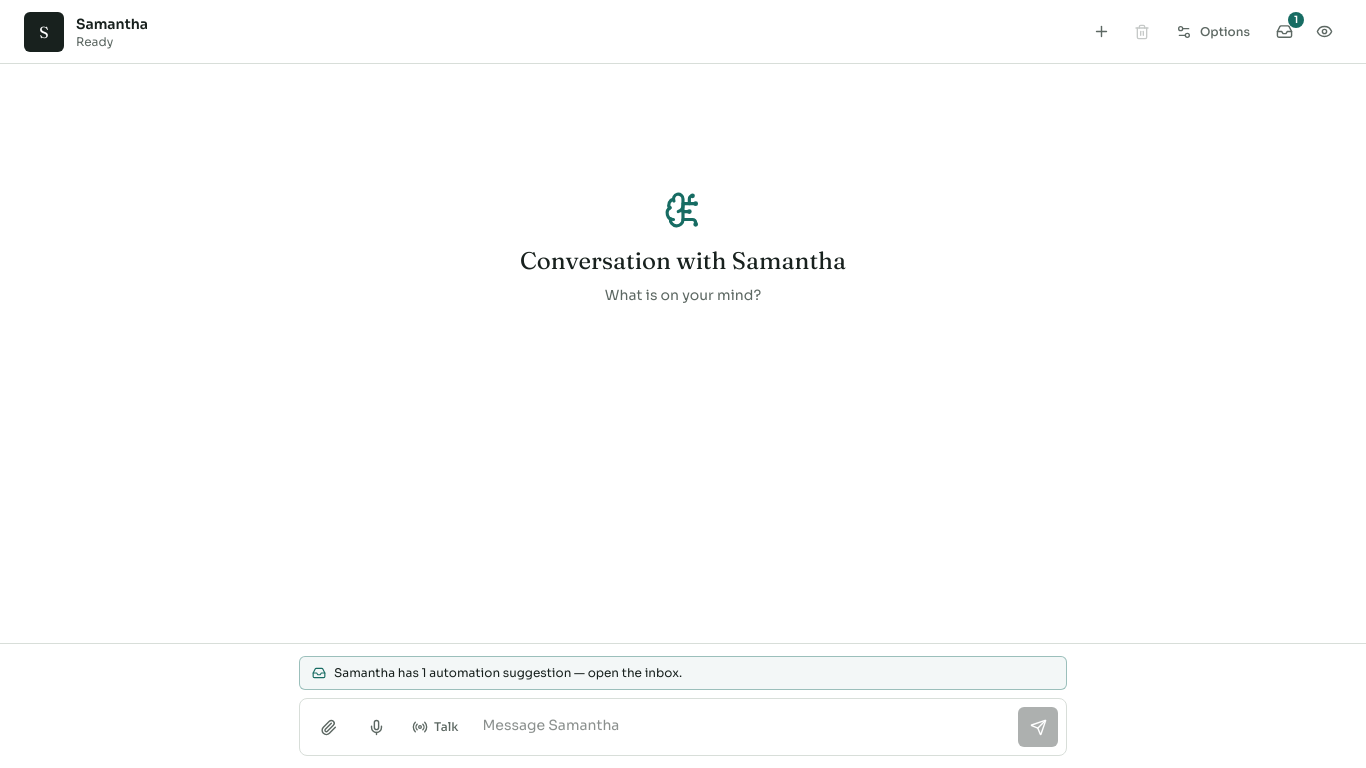
Test case: ChatPage outbox replies › shows an inert automation suggestion and activates it only after Accept
Expected: the text box labelled "Message Samantha" is shown, [474,707,1010,747]
Click the button named "Show inbox" at (1284, 32), box [1266,14,1302,50]
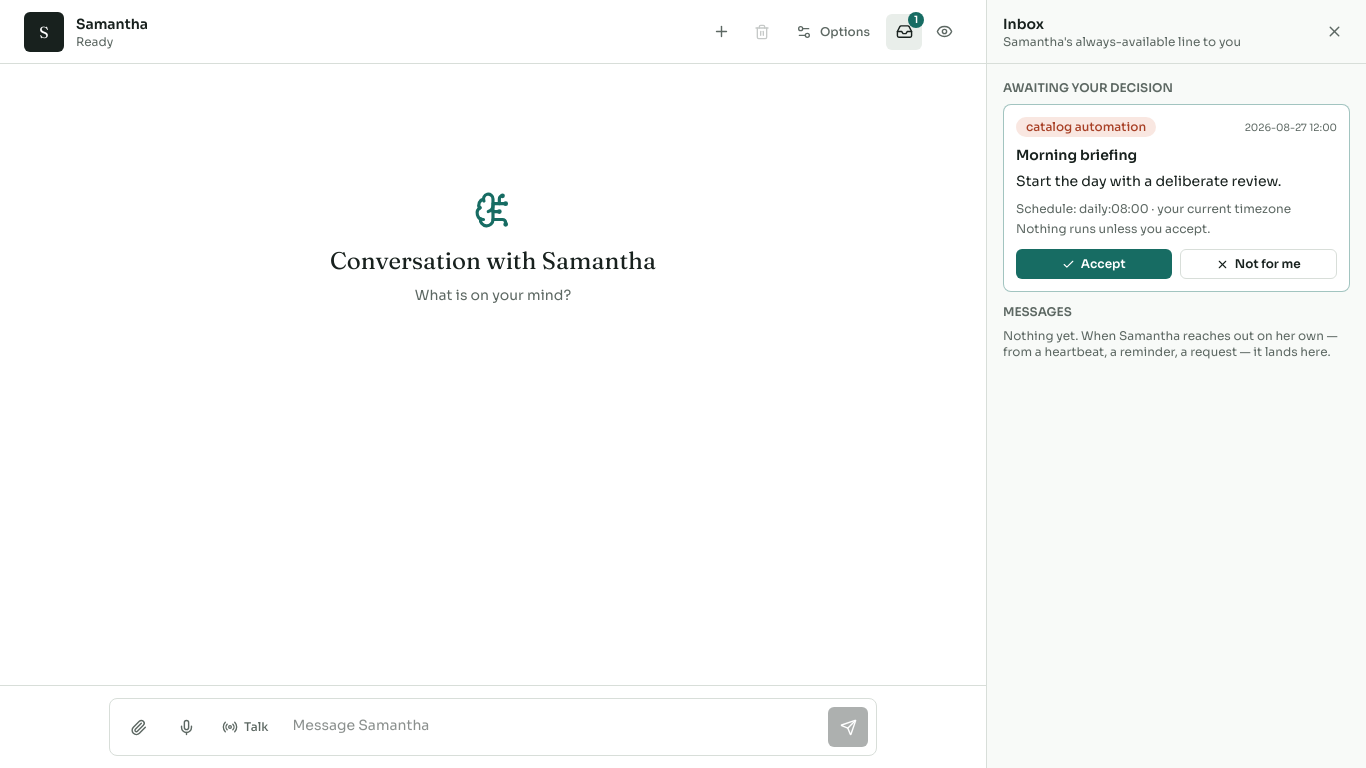
Expected: the text "Morning briefing" is shown, [1016,146,1137,164]
Expected: the text "Nothing runs unless you accept." is shown, [1016,221,1210,236]
Click the button "Accept" at (1094, 264), box [1016,249,1172,279]
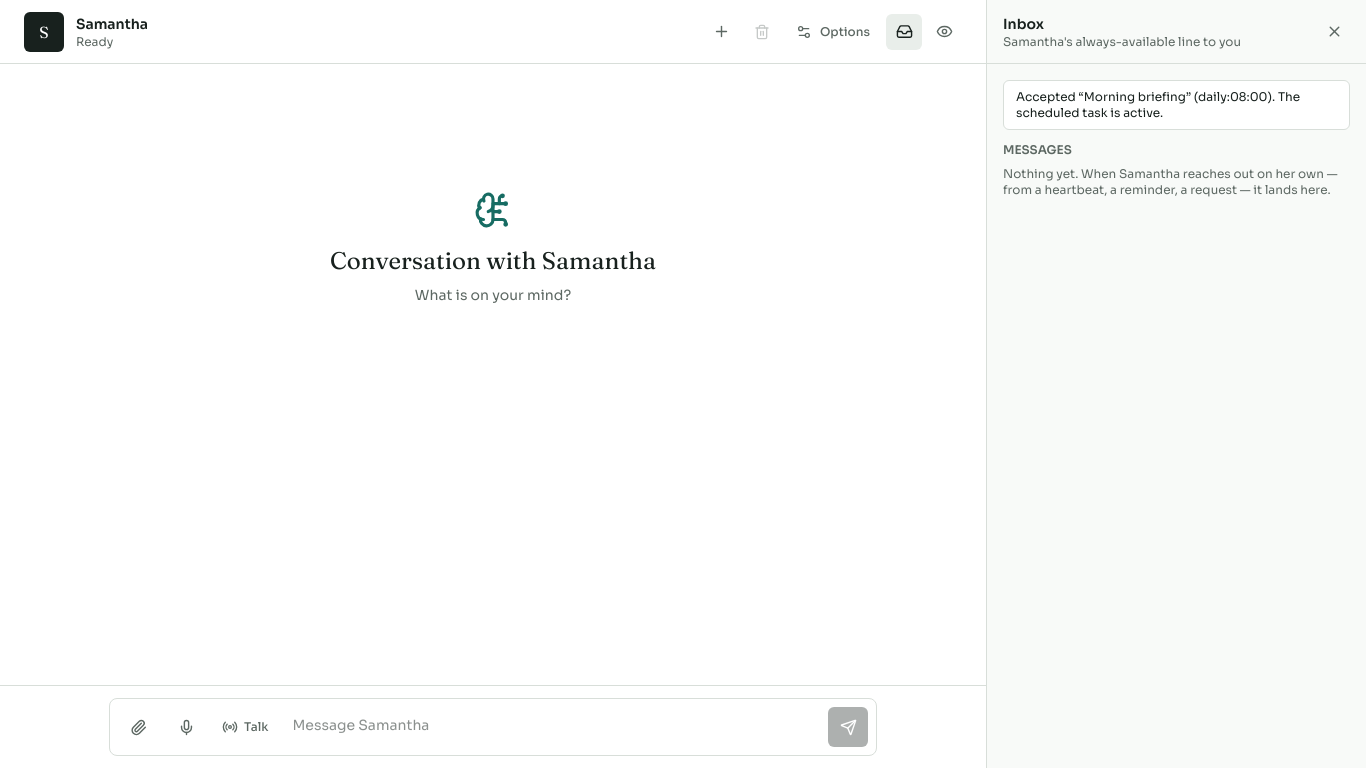
Expected: the text "Accepted “Morning briefing” (daily:08:00). The scheduled task is active." is shown, [1003,80,1350,130]
